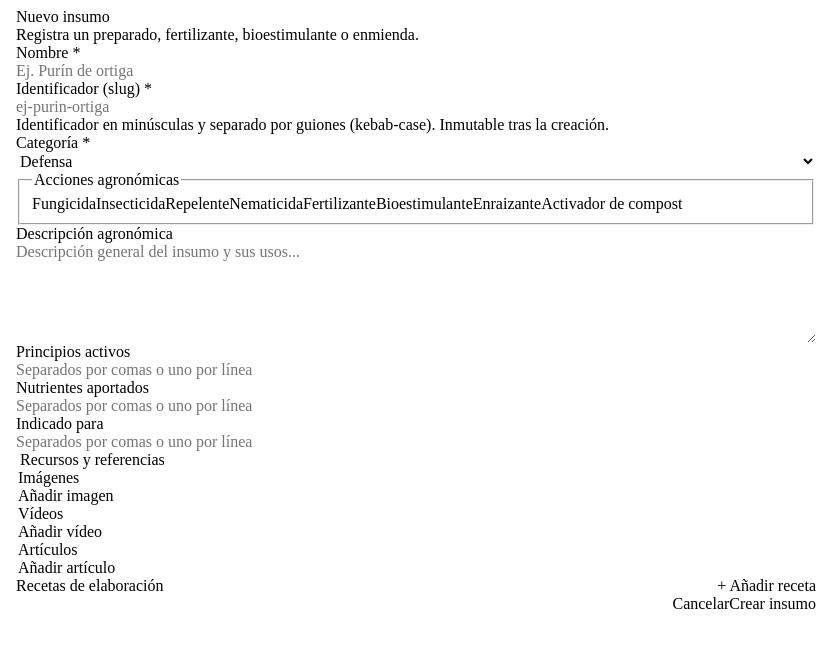
Test: GardenInputCreatePage › displays generic server error when api responds with unexpected error
Type "Macerado de ajo" into the field labelled "Nombre *". click: (416, 71)
box: top-left (16, 62), bottom-right (816, 80)
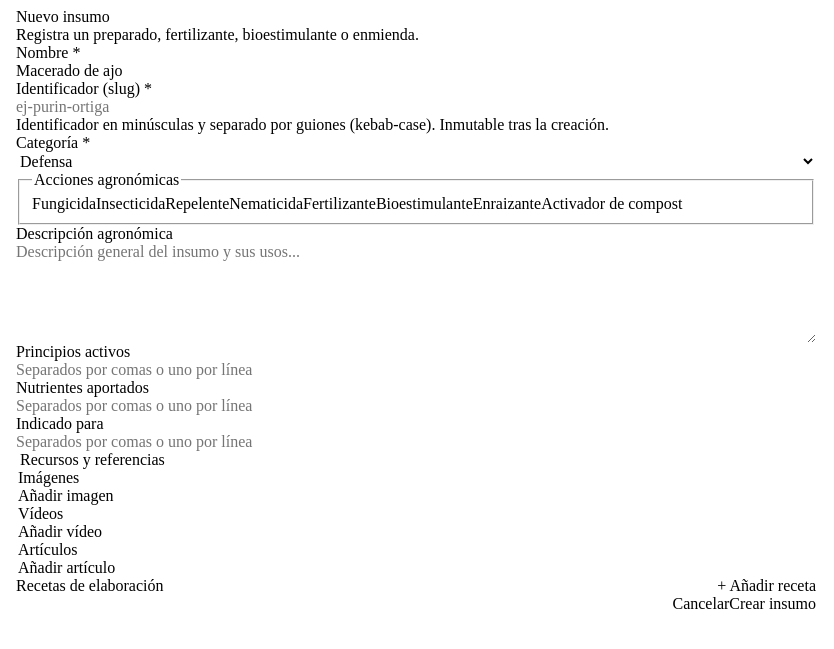
Type "macerado-ajo" into the field labelled "Identificador (slug) *". click: (416, 107)
box: top-left (16, 98), bottom-right (816, 116)
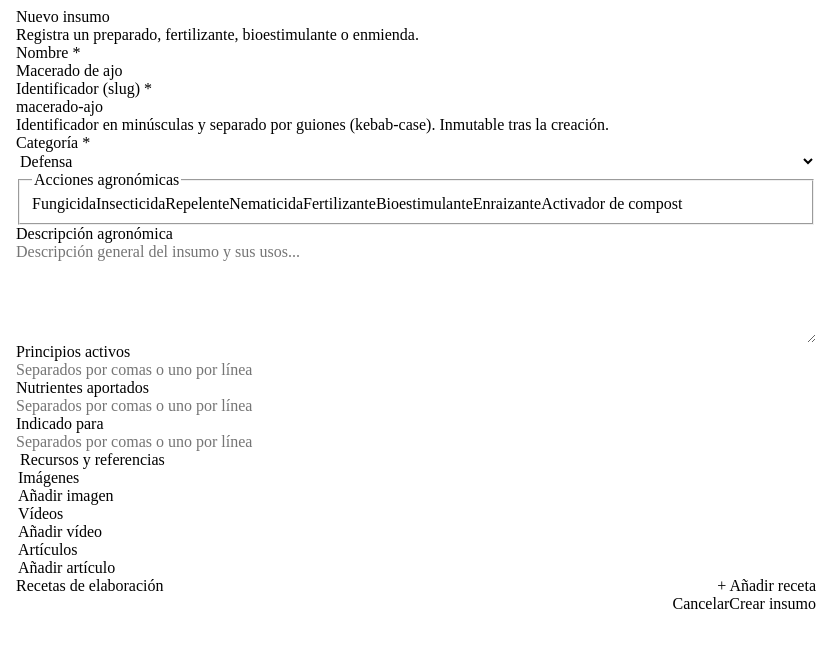
Click the button "Crear insumo". click: (773, 604)
box: top-left (729, 595), bottom-right (816, 613)
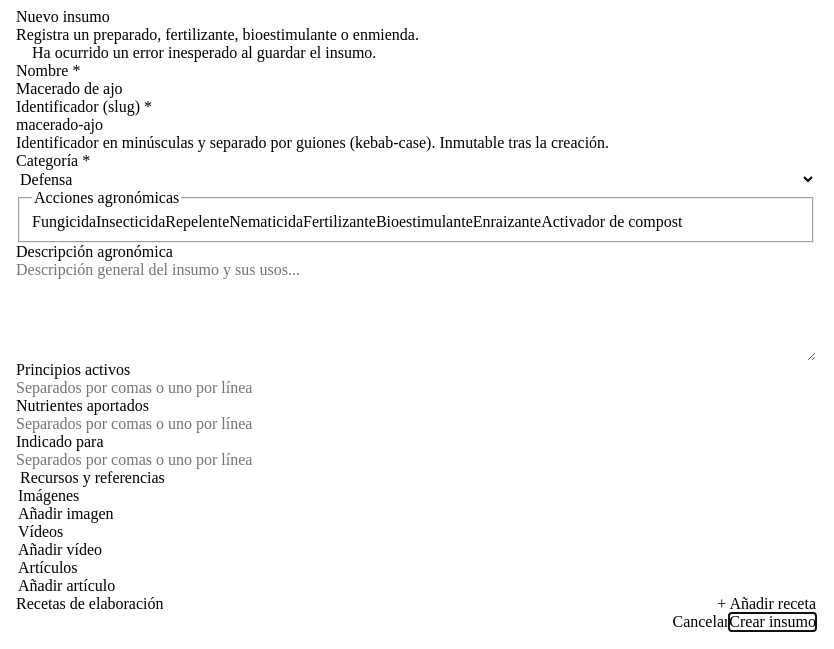
Now the text "Ha ocurrido un error inesperado al guardar el insumo." is shown, box top-left (32, 44), bottom-right (376, 62)
